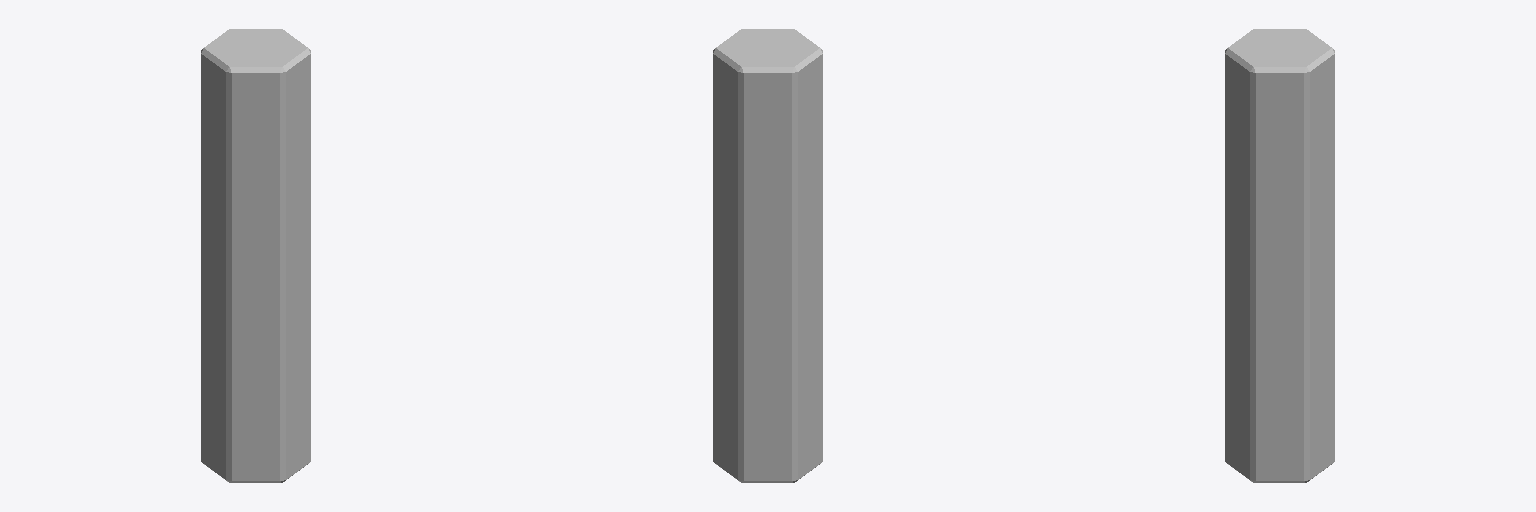
Rendered from hex.obj.
3 renders of one model, left to right at view 1: azimuth 30°, elevation 25°; view 2: azimuth 150°, elevation 25°; view 3: azimuth 270°, elevation 25°, orthographic.
Size of the model in its own units: 1.73 by 8.08 by 1.93.